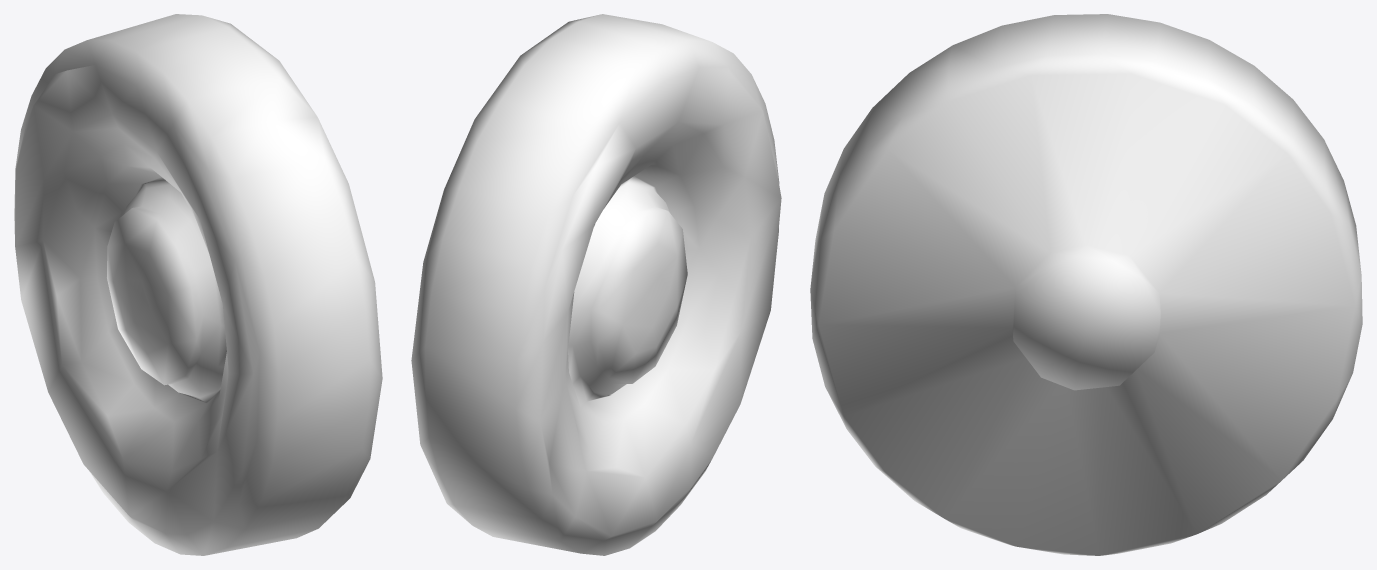
The picture shows the model from 3 angles, left to right: view 1: azimuth 30°, elevation 25°; view 2: azimuth 150°, elevation 25°; view 3: azimuth 270°, elevation 25°; orthographic projection. The views are drawn at different scales.
Bounding box in the file's own units: 0.2083 × 0.6614 × 0.6614.
Materials: 1 (1 with a texture image).
